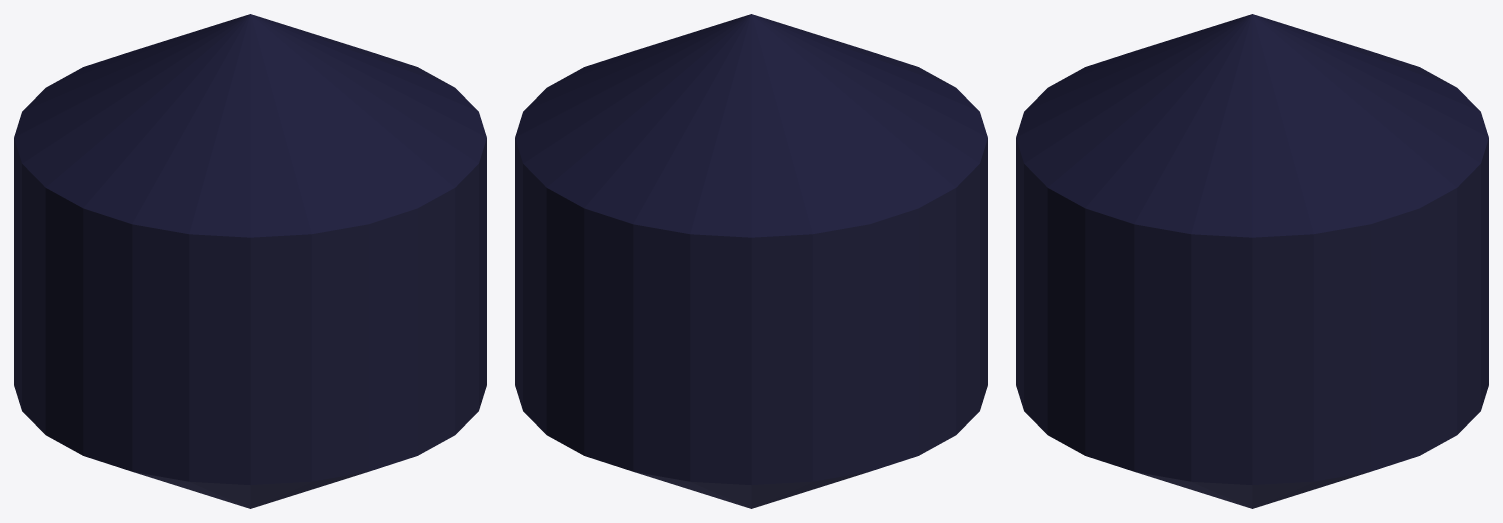
The model's file is sky_warp_day.glb.
3 views of the same model, side by side, from view 1: azimuth 30°, elevation 25°; view 2: azimuth 150°, elevation 25°; view 3: azimuth 270°, elevation 25° (orthographic).
Parts seen in each view (by area): view 1: skyband1, skyband2, skyband0; view 2: skyband1, skyband2, skyband0; view 3: skyband1, skyband2, skyband0.
Boxes of the visible parts, x1,y1,x2,y2 form: skyband1: (14, 138, 486, 485); skyband2: (14, 14, 486, 237); skyband0: (133, 472, 367, 508); skyband1: (515, 138, 987, 485); skyband2: (515, 14, 987, 237); skyband0: (634, 472, 868, 508); skyband1: (1016, 138, 1488, 485); skyband2: (1016, 14, 1488, 237); skyband0: (1135, 472, 1369, 508).
Bounding box in the file's own units: 156 × 180 × 156.
